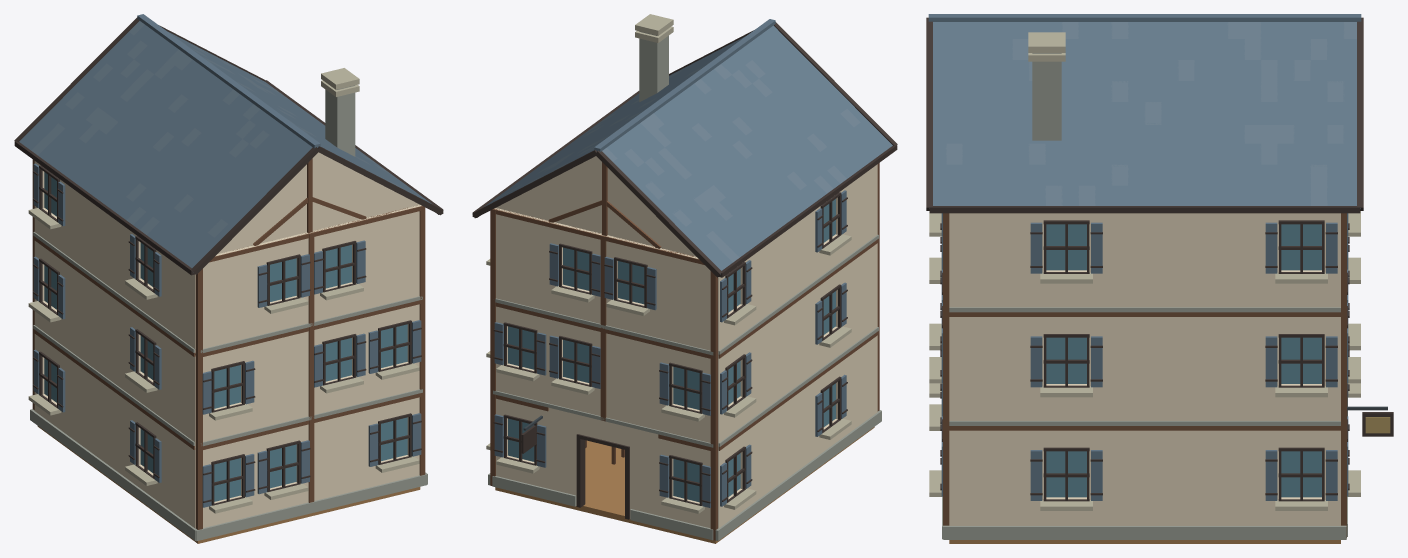
Rendered from SM_TownHouse3.glb.
The picture shows the model from 3 angles, left to right: view 1: azimuth 30°, elevation 25°; view 2: azimuth 150°, elevation 25°; view 3: azimuth 270°, elevation 25°; orthographic projection. The views are drawn at different scales.
Parts seen in each view (by area): view 1: SM_TownHouse3; view 2: SM_TownHouse3; view 3: SM_TownHouse3.
Part boxes in pixels (x1,y1,x2,y2): SM_TownHouse3: (14,14,443,543); SM_TownHouse3: (472,14,897,543); SM_TownHouse3: (926,14,1393,543).
Size of the model in its own units: 9.06 by 13.54 by 11.94.
